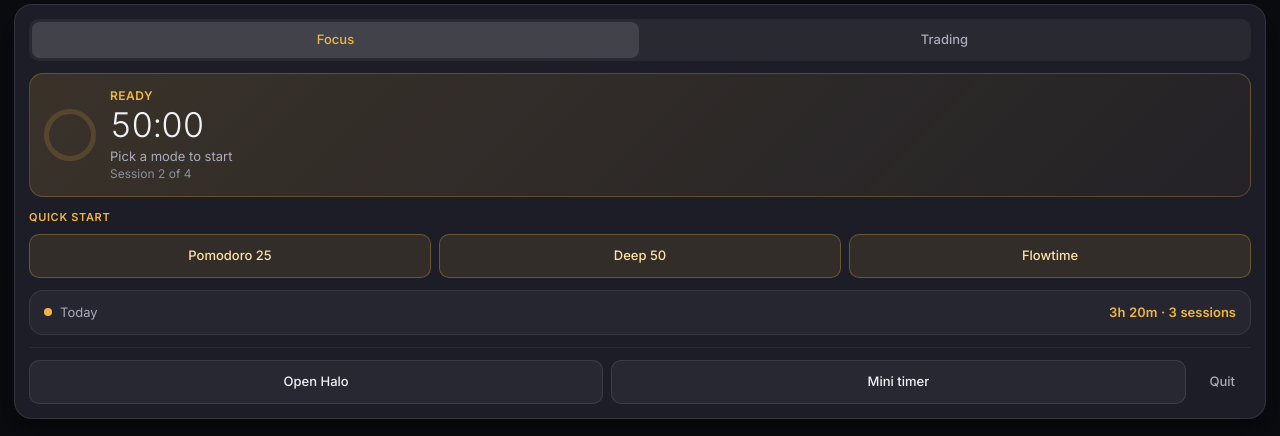
Test: PopoverWindow › shows and hides the mini timer
Click the button "Mini timer" at (898, 382), box top-left (611, 360), bottom-right (1186, 404)
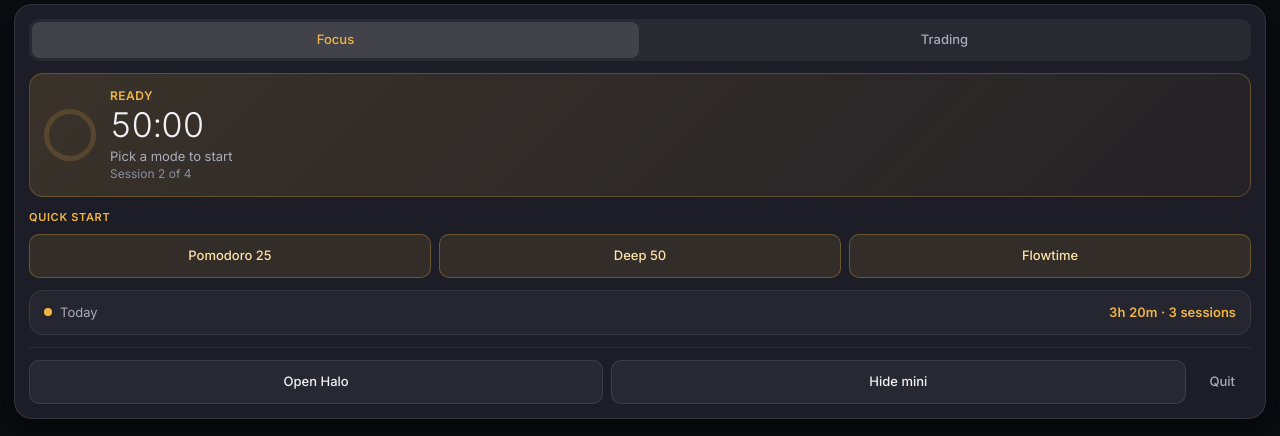
Expected: the button "Hide mini" is shown, top-left (611, 360), bottom-right (1186, 404)
